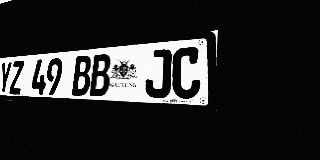4: (31, 59, 48, 95)
9: (45, 58, 63, 95)
B: (89, 54, 111, 97), (71, 55, 92, 96)
C: (171, 46, 201, 99)
J: (145, 49, 172, 98)
Y: (0, 62, 12, 94)
Z: (9, 61, 24, 94)
